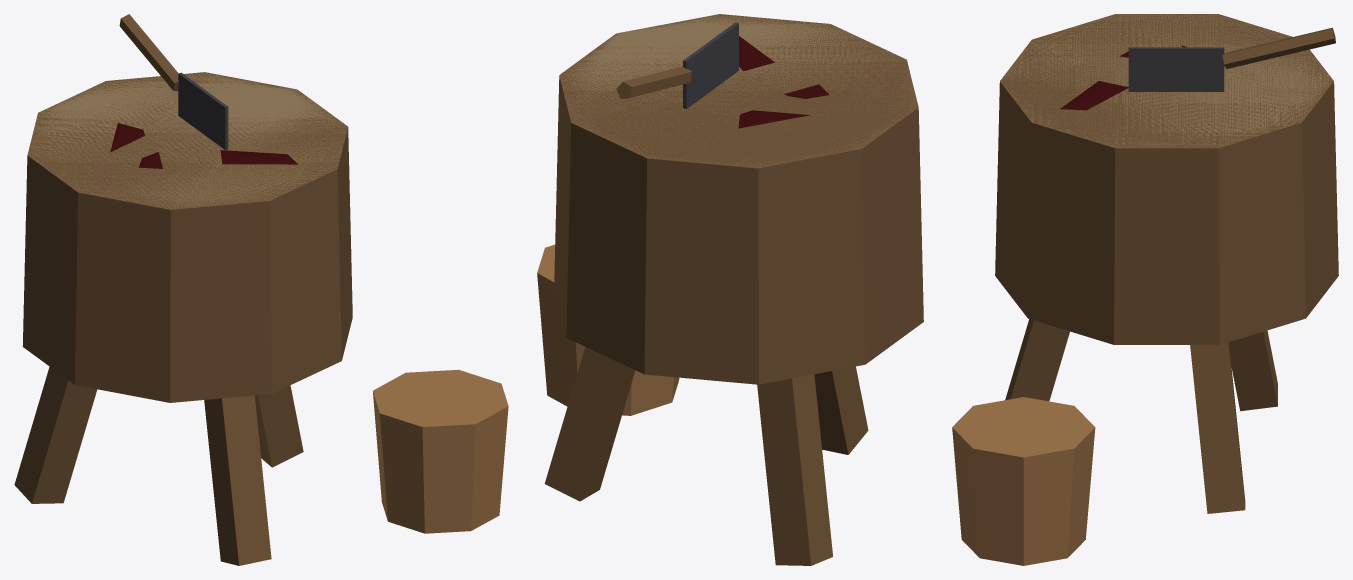
The model's file is ButcherBlock.fbx.
The picture shows the model from 3 angles, left to right: view 1: azimuth 30°, elevation 25°; view 2: azimuth 150°, elevation 25°; view 3: azimuth 270°, elevation 25°; orthographic projection. The views are drawn at different scales.
Visible parts, largest first — view 1: ButcherBlock; view 2: ButcherBlock; view 3: ButcherBlock.
Part boxes in pixels (x1=…): ButcherBlock: x1=14, y1=14, x2=508, y2=565; ButcherBlock: x1=537, y1=14, x2=923, y2=565; ButcherBlock: x1=952, y1=14, x2=1338, y2=565.
Bounding box in the file's own units: 0.9424 × 1.01 × 0.81.
